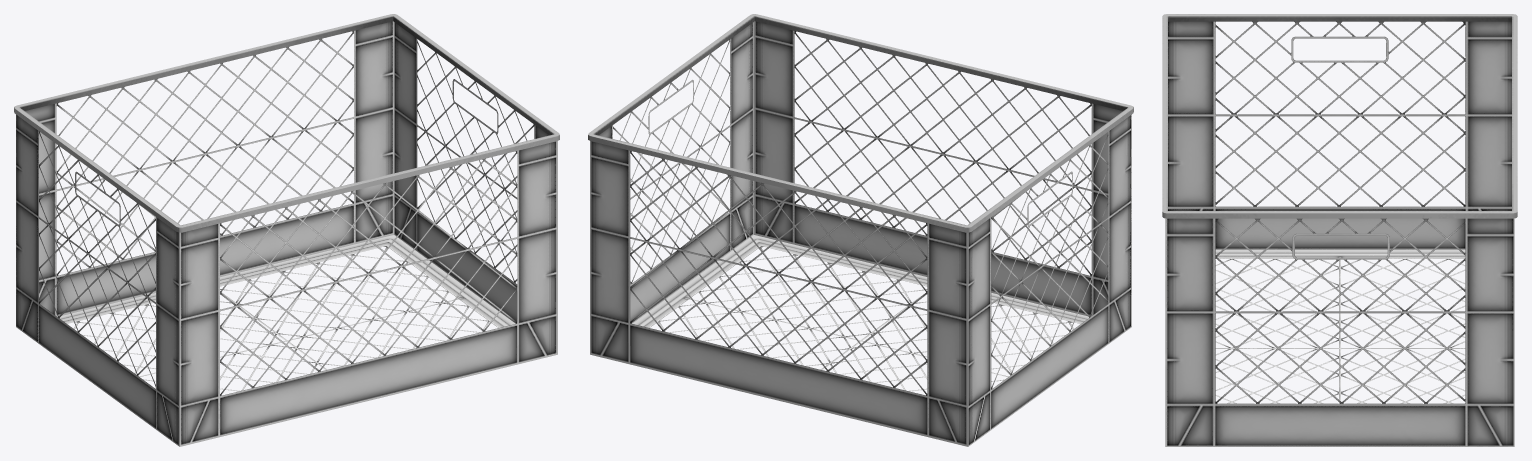
The picture shows the model from 3 angles, left to right: view 1: azimuth 30°, elevation 25°; view 2: azimuth 150°, elevation 25°; view 3: azimuth 270°, elevation 25°; orthographic projection. The views are drawn at different scales.
Parts seen in each view (by area): view 1: box_05; view 2: box_05; view 3: box_05.
Part boxes in pixels (x1,y1,x2,y2): box_05: (14,14,559,446); box_05: (588,14,1133,446); box_05: (1162,14,1517,446).
Bounding box in the file's own units: 0.405 × 0.2223 × 0.305.
